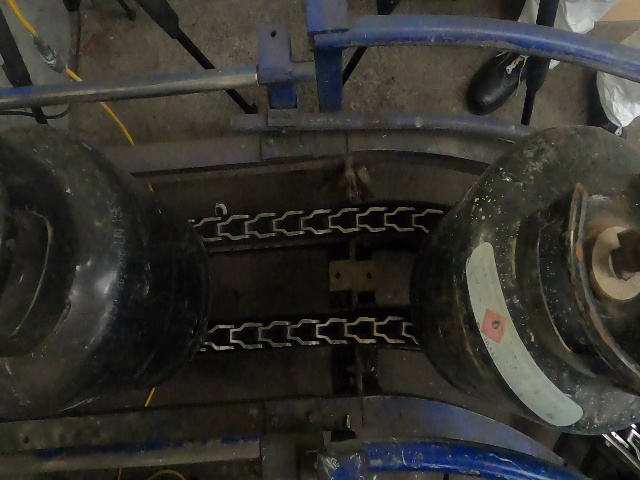gas_bottle: (7, 2, 637, 480)
